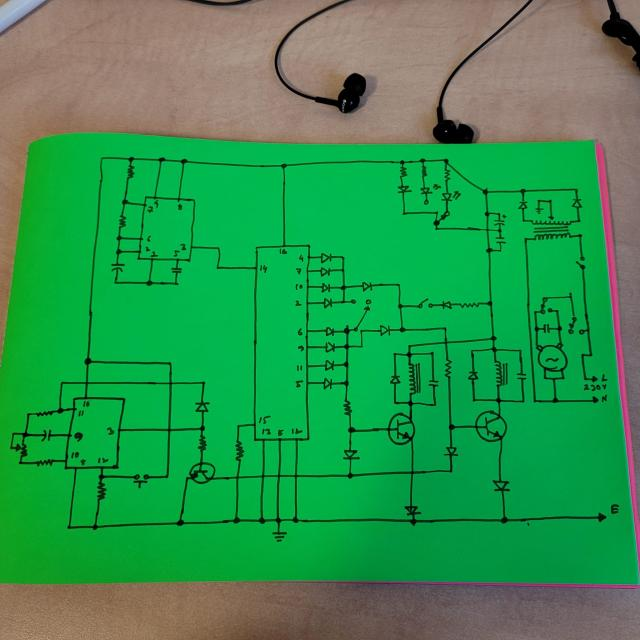capacitor: (493, 214, 508, 228), (109, 261, 125, 273), (427, 377, 440, 389), (41, 428, 51, 442), (515, 370, 526, 382), (541, 322, 551, 335), (494, 236, 506, 245), (171, 266, 182, 275)
crossover: (408, 468, 416, 476), (258, 472, 266, 479), (167, 379, 174, 387), (442, 338, 449, 346), (165, 426, 172, 433), (275, 473, 282, 479), (292, 473, 298, 479), (484, 226, 489, 232), (84, 380, 89, 386), (234, 475, 240, 480)
diode: (491, 478, 512, 494), (341, 447, 360, 461), (419, 183, 441, 195), (193, 400, 211, 414), (440, 190, 461, 202), (442, 444, 460, 457), (403, 505, 422, 516), (396, 183, 412, 195), (378, 323, 391, 337), (322, 341, 336, 354), (388, 373, 402, 386), (360, 279, 373, 293), (318, 265, 333, 277), (322, 358, 334, 372), (322, 377, 334, 390), (319, 252, 332, 264), (516, 200, 530, 211), (320, 281, 331, 294), (322, 296, 332, 310), (468, 369, 478, 383), (571, 198, 582, 210), (441, 299, 452, 310), (324, 326, 334, 337)
ground: (270, 530, 288, 544), (534, 207, 544, 213)
inductor: (406, 361, 422, 395), (492, 360, 508, 387)
junction: (83, 356, 93, 366), (90, 522, 100, 531), (342, 325, 351, 335), (179, 157, 188, 166), (232, 515, 241, 524), (145, 278, 154, 287), (157, 155, 166, 164), (447, 422, 455, 432), (120, 198, 130, 206), (279, 162, 288, 170), (176, 518, 184, 527), (550, 396, 559, 404), (115, 234, 124, 242), (499, 516, 509, 523), (258, 516, 266, 524), (56, 406, 64, 414), (396, 302, 404, 310), (531, 396, 539, 404), (347, 426, 355, 434), (346, 471, 354, 479), (442, 156, 449, 165), (398, 325, 405, 333), (127, 155, 135, 162), (494, 396, 502, 403), (172, 280, 180, 287), (490, 334, 497, 342), (340, 283, 347, 291), (343, 342, 350, 350), (342, 379, 349, 387), (482, 188, 489, 195), (59, 379, 66, 386), (519, 397, 526, 404), (575, 217, 582, 224), (486, 300, 494, 306), (491, 345, 497, 353), (406, 350, 412, 358), (484, 248, 492, 254), (274, 516, 282, 522), (448, 467, 454, 474), (520, 187, 526, 194), (66, 523, 72, 530), (200, 380, 207, 386), (235, 423, 242, 429), (471, 396, 477, 403), (587, 351, 593, 358), (580, 352, 586, 359), (358, 327, 364, 334), (343, 360, 349, 367), (291, 516, 298, 522), (340, 254, 346, 260), (577, 232, 583, 238), (98, 155, 104, 161), (25, 411, 31, 417), (167, 360, 173, 366), (215, 245, 221, 251), (214, 264, 220, 270), (340, 267, 346, 273), (469, 348, 475, 354), (392, 399, 398, 405), (567, 292, 573, 298), (522, 236, 528, 242), (556, 324, 562, 330), (428, 350, 434, 356), (431, 402, 437, 408), (410, 518, 416, 524), (199, 426, 205, 432), (114, 248, 120, 254), (585, 327, 591, 333), (163, 474, 170, 479), (484, 210, 489, 217), (442, 325, 447, 331), (401, 210, 406, 216), (516, 348, 522, 353), (573, 187, 579, 192), (396, 282, 402, 287), (534, 326, 539, 332), (398, 159, 404, 164), (407, 400, 412, 406), (22, 432, 28, 437), (98, 474, 104, 479), (113, 280, 118, 286), (185, 475, 190, 481), (340, 298, 345, 304), (418, 158, 425, 162), (392, 351, 397, 356), (536, 198, 541, 203), (497, 248, 502, 253), (496, 228, 501, 233), (407, 343, 412, 348), (11, 431, 16, 436), (18, 460, 23, 465), (548, 198, 552, 204), (521, 217, 525, 222), (434, 226, 438, 231), (359, 344, 363, 349), (9, 445, 13, 450), (497, 211, 501, 216), (583, 375, 587, 379), (533, 310, 537, 314), (555, 308, 558, 313)
resistor: (13, 439, 27, 459), (95, 481, 107, 501), (233, 441, 244, 462), (443, 358, 453, 379), (342, 400, 354, 416), (458, 300, 480, 308), (196, 435, 207, 451), (36, 457, 54, 466), (117, 213, 127, 229), (34, 410, 54, 418), (420, 164, 430, 178), (397, 166, 408, 178), (126, 164, 134, 180), (444, 168, 452, 181)
switch: (349, 297, 372, 333), (421, 200, 452, 226), (567, 315, 585, 334), (131, 472, 149, 489), (539, 296, 553, 316), (416, 297, 434, 309), (576, 253, 586, 270)
terminal: (596, 510, 607, 523), (590, 395, 599, 403), (590, 374, 597, 382)
text: (582, 383, 608, 391), (610, 502, 620, 516), (72, 431, 84, 441), (258, 414, 270, 424), (294, 379, 304, 388), (294, 282, 304, 291), (105, 426, 115, 435), (97, 456, 108, 464), (297, 253, 306, 262), (176, 202, 184, 212), (294, 266, 302, 276), (292, 427, 302, 435), (71, 450, 79, 460), (260, 264, 268, 273), (296, 327, 304, 336), (279, 247, 288, 255), (295, 363, 303, 372), (600, 394, 608, 403), (146, 205, 154, 213), (294, 299, 302, 307), (150, 250, 158, 258), (172, 249, 180, 257), (297, 343, 304, 352), (600, 372, 606, 382), (261, 428, 271, 434), (145, 234, 152, 242), (82, 400, 90, 407), (77, 410, 84, 417), (180, 242, 186, 250), (276, 428, 282, 436), (154, 199, 159, 208), (80, 458, 86, 465), (145, 246, 150, 252)
transformer: (529, 213, 570, 242)
transistor: (473, 409, 508, 443), (387, 412, 415, 444), (188, 461, 216, 484)
